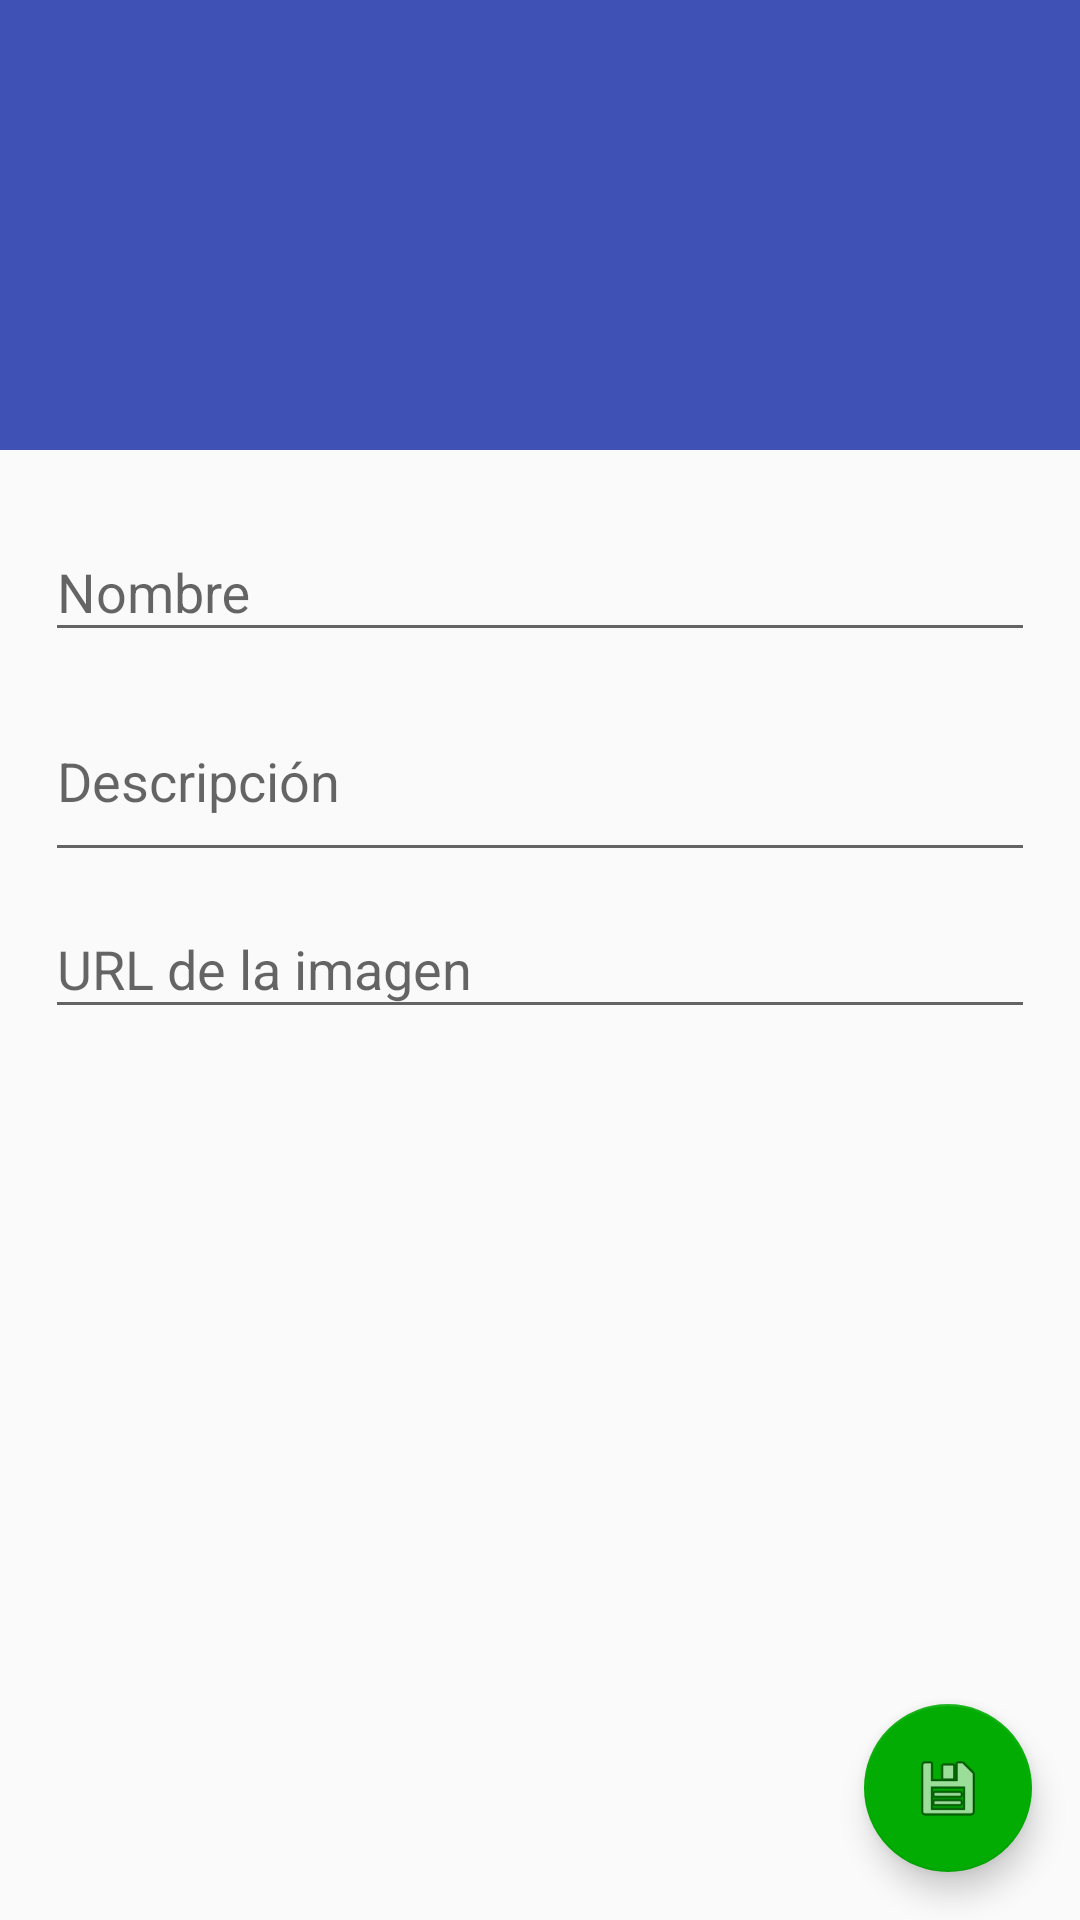

Named icons in this screenshot (1080w x 1920h) and their bounding boxes, [x1,y1,x2,y2]:
save: [864,1704,1032,1872]
